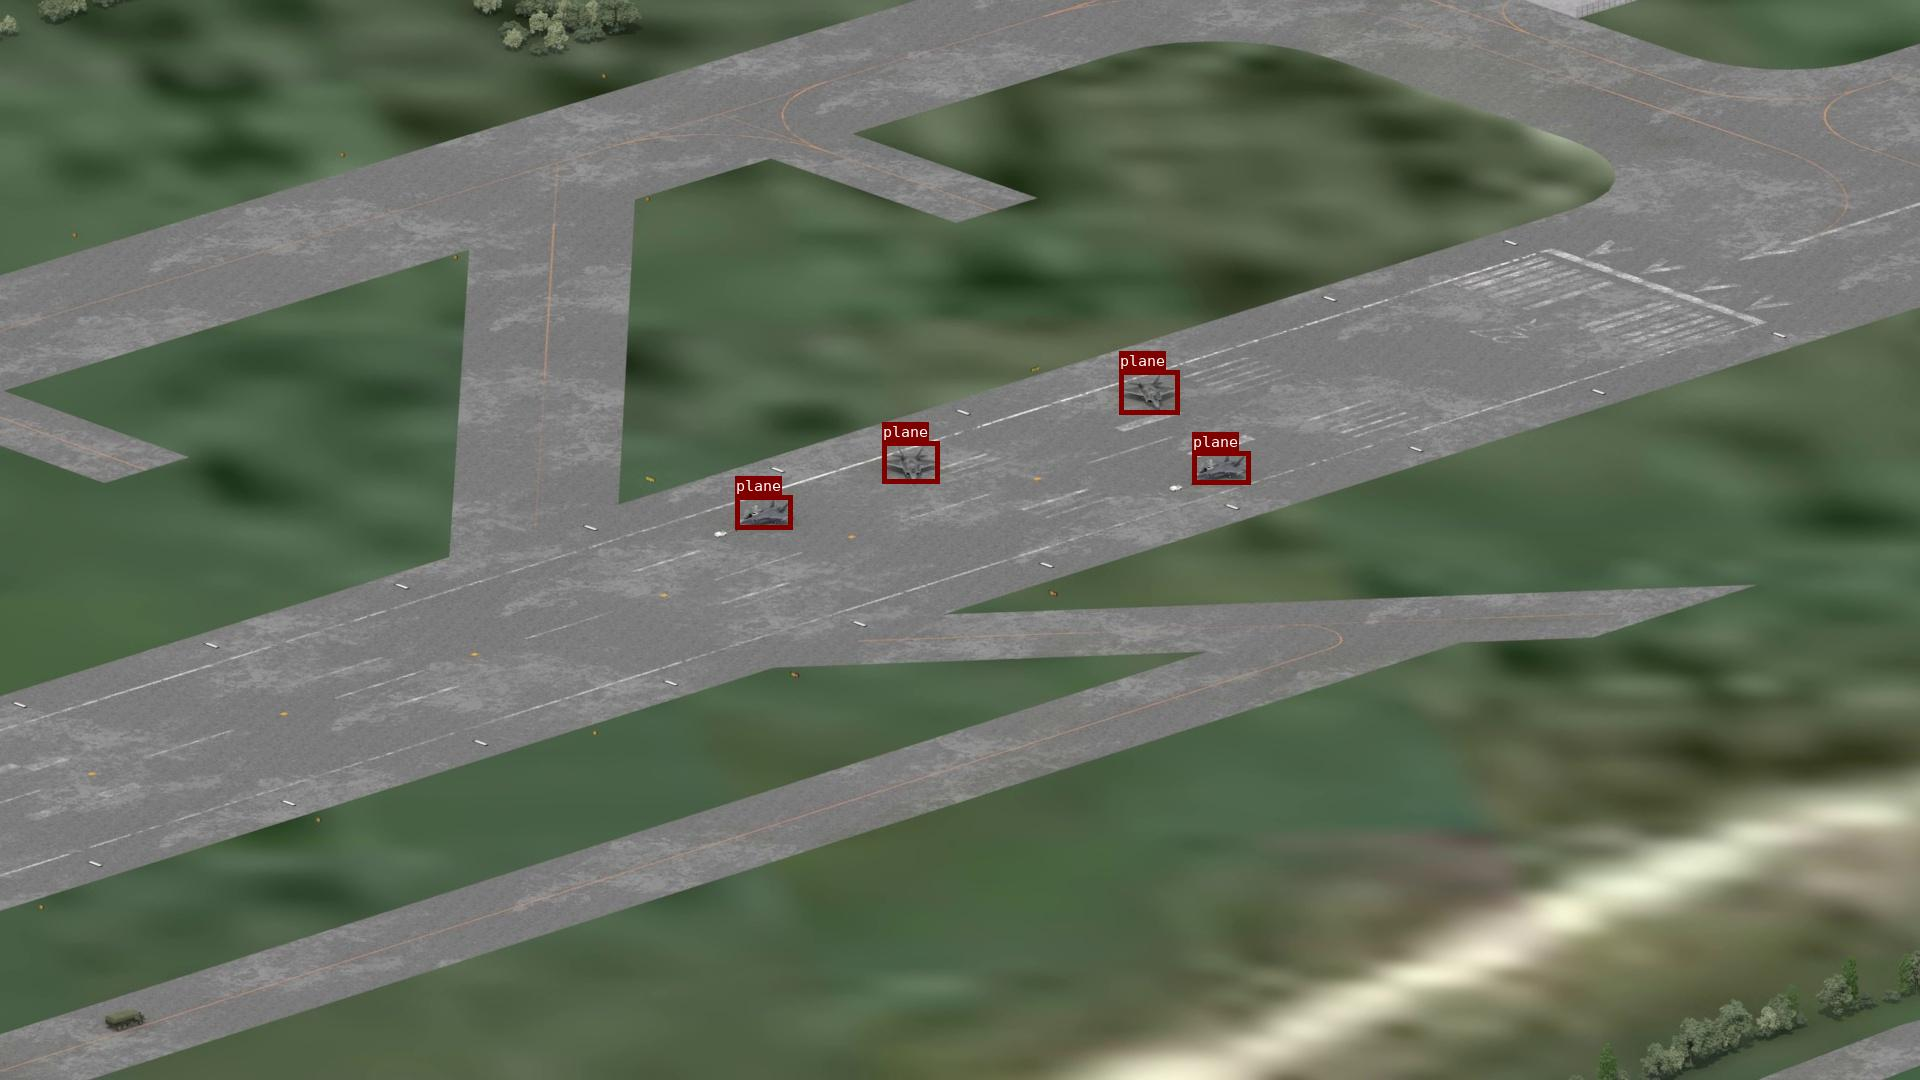plane: (1120, 371, 1179, 414), (882, 440, 939, 483), (735, 495, 793, 529), (1192, 451, 1250, 484)
